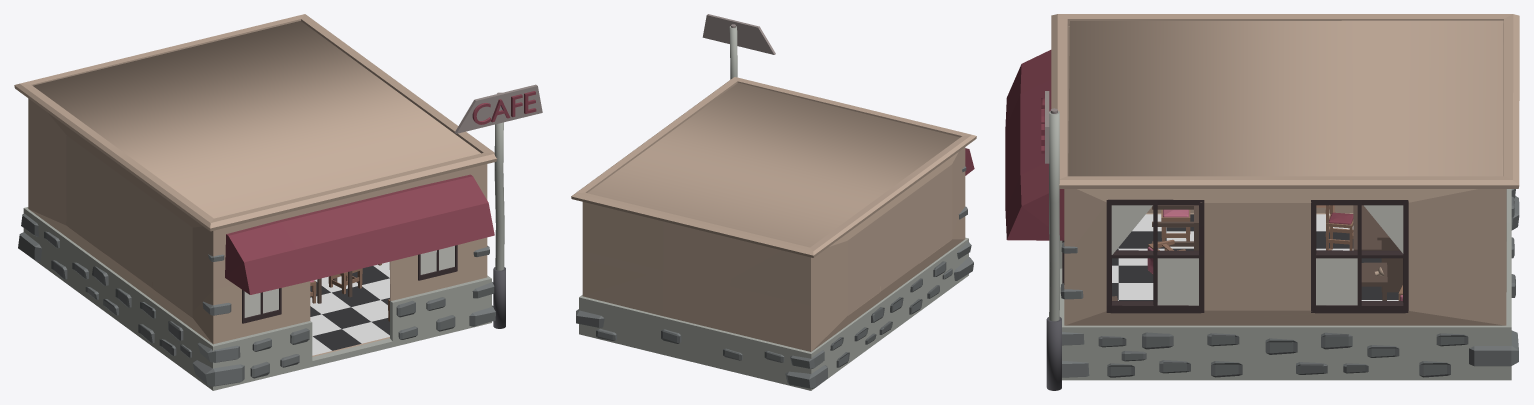
Rendered from Morning Lotus.fbx.
3 renders of one model, left to right at view 1: azimuth 30°, elevation 25°; view 2: azimuth 150°, elevation 25°; view 3: azimuth 270°, elevation 25°, orthographic. The views are drawn at different scales.
Visible parts, largest first — view 1: Base, FrontBase, Bricks, CafeSign, Floor, Window01, WindowFrames01; view 2: Base, FrontBase, Bricks, CafeSign; view 3: Base, FrontBase, Bricks, WindowFrames02, CafeSign, WindowFrames03, Window02, Window03, Floor, CafeDesk, BChair02, Table03 (+2 smaller).
Part boxes in pixels (x1,y1,x2,y2): Base: [14, 14, 497, 356]; FrontBase: [23, 174, 494, 390]; Bricks: [18, 213, 495, 386]; CafeSign: [455, 84, 542, 328]; Floor: [310, 262, 389, 355]; Window01: [244, 245, 454, 317]; WindowFrames01: [242, 245, 457, 323]; Base: [571, 77, 976, 351]; FrontBase: [579, 148, 974, 390]; Bricks: [576, 166, 973, 388]; CafeSign: [702, 14, 775, 79]; Base: [1051, 14, 1519, 325]; FrontBase: [1005, 50, 1511, 380]; Bricks: [1060, 189, 1519, 377]; WindowFrames02: [1106, 199, 1204, 313]; CafeSign: [1041, 91, 1061, 390]; WindowFrames03: [1311, 200, 1408, 313]; Window02: [1111, 205, 1198, 305]; Window03: [1316, 205, 1403, 305]; Floor: [1112, 214, 1398, 300]; CafeDesk: [1353, 205, 1402, 292]; BChair02: [1325, 205, 1353, 250]; Table03: [1152, 205, 1198, 250].
Bounding box in the file's own units: 510 × 347 × 575.
